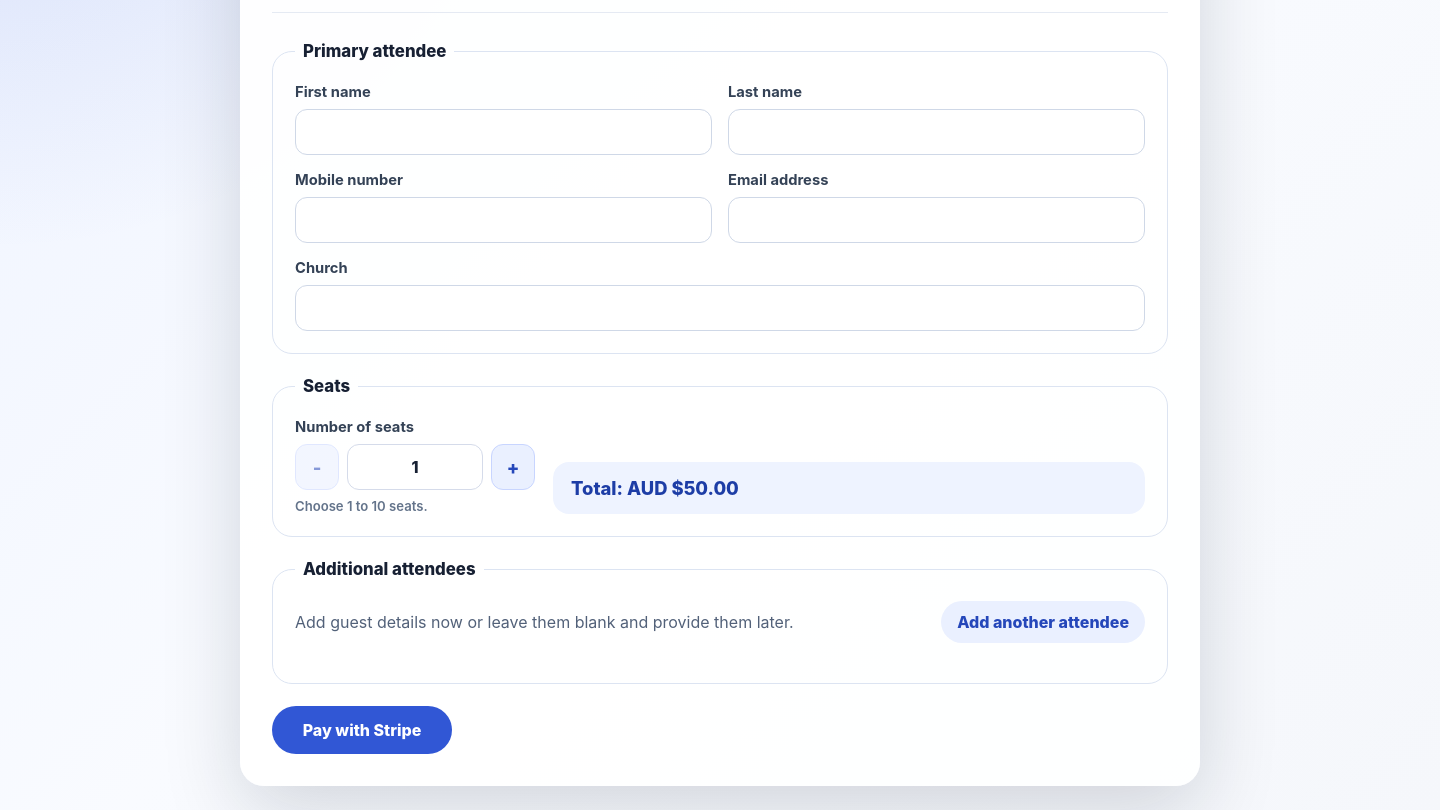
it: App › adds and removes additional attendees
(page scrolled)
Step 1. Click the button "Add another attendee" → x=1043, y=622, box [941,601,1145,643]
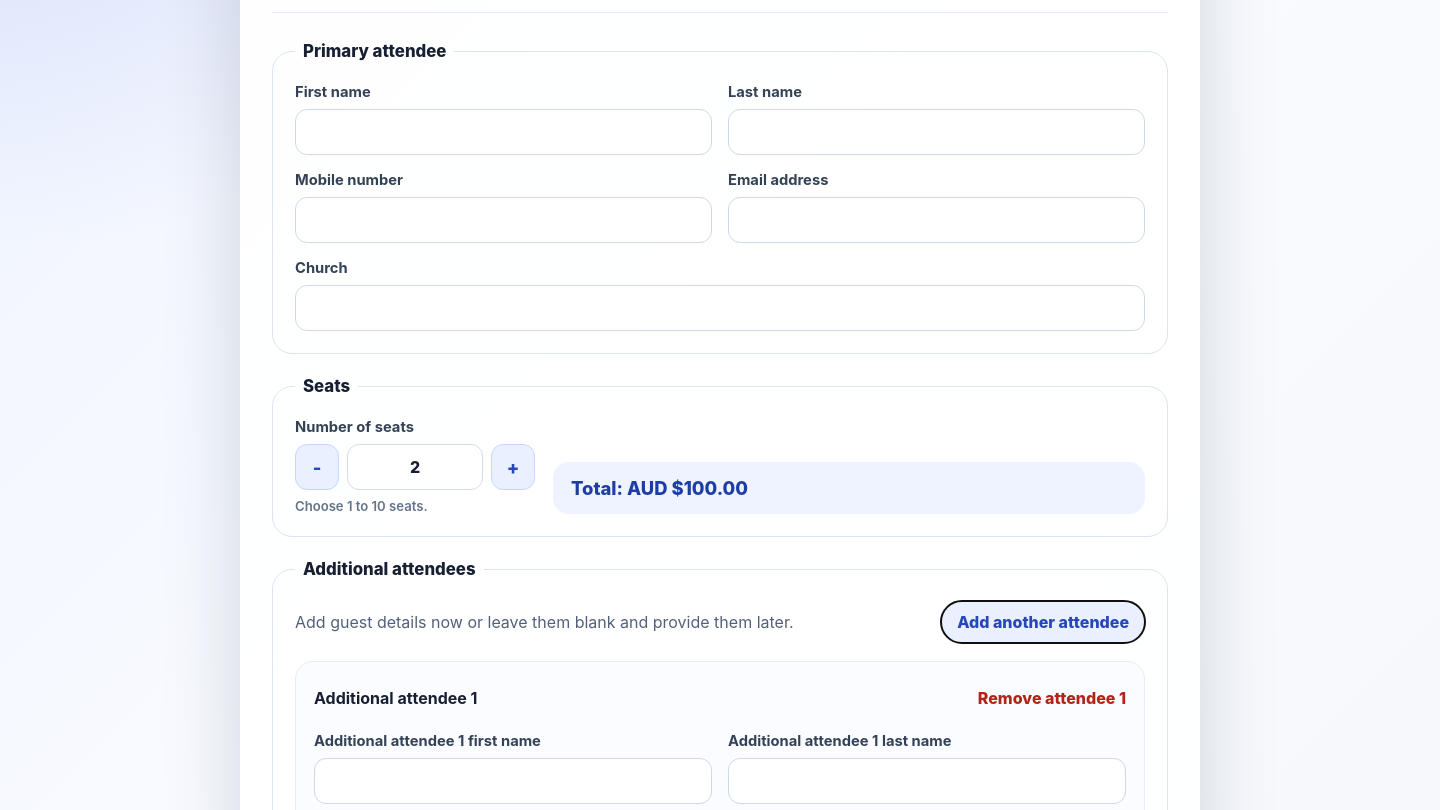
Check: the text named "number of seats" reads "2", box [347,444,483,490]
Check: the field labelled "Additional attendee 1 first name" is shown, box [314,758,712,804]
Step 2. Click the button "Remove attendee 1" → x=1052, y=698, box [978,680,1126,716]
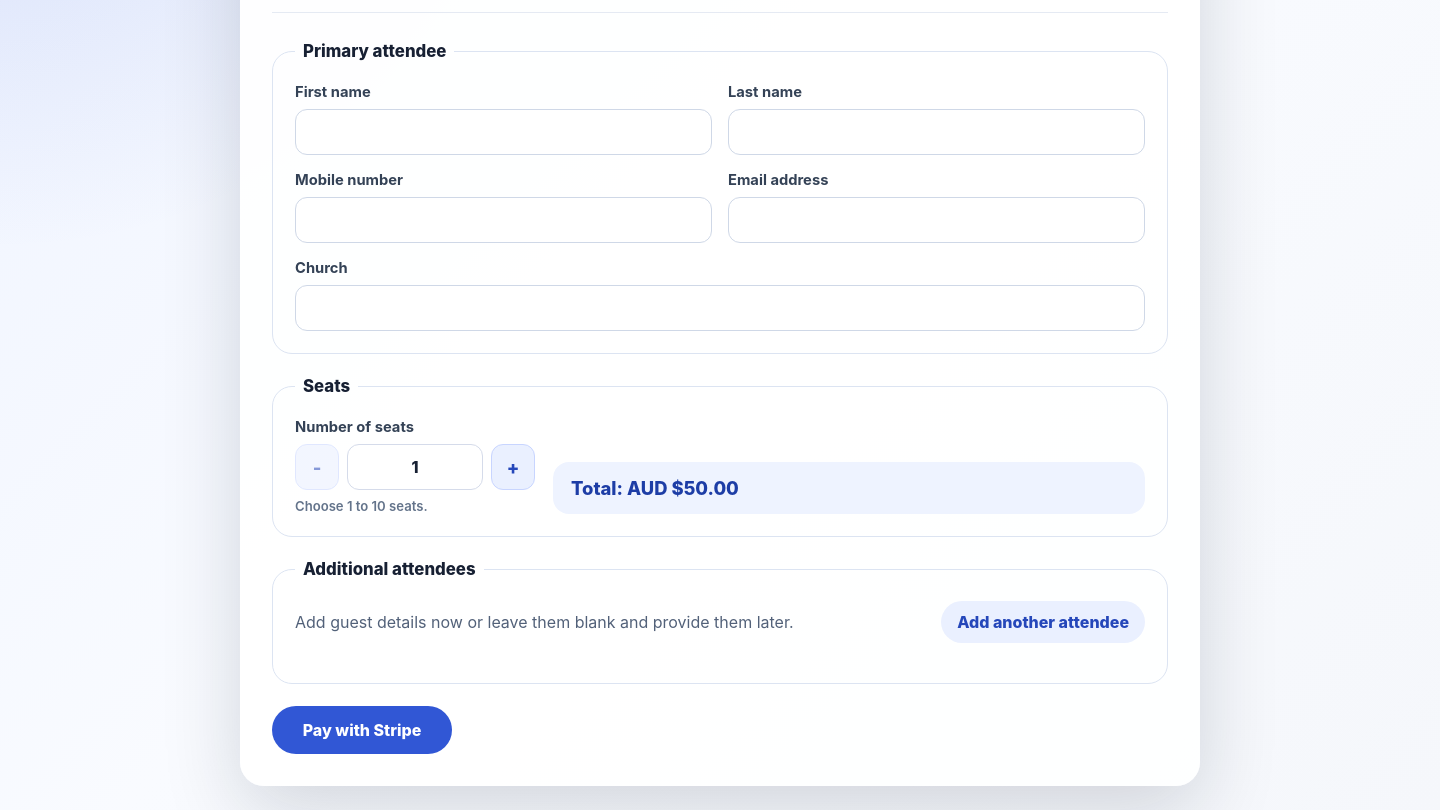
Check: the text named "number of seats" reads "1", box [347,444,483,490]
Check: the label labelled "Additional attendee 1 first name" is gone
